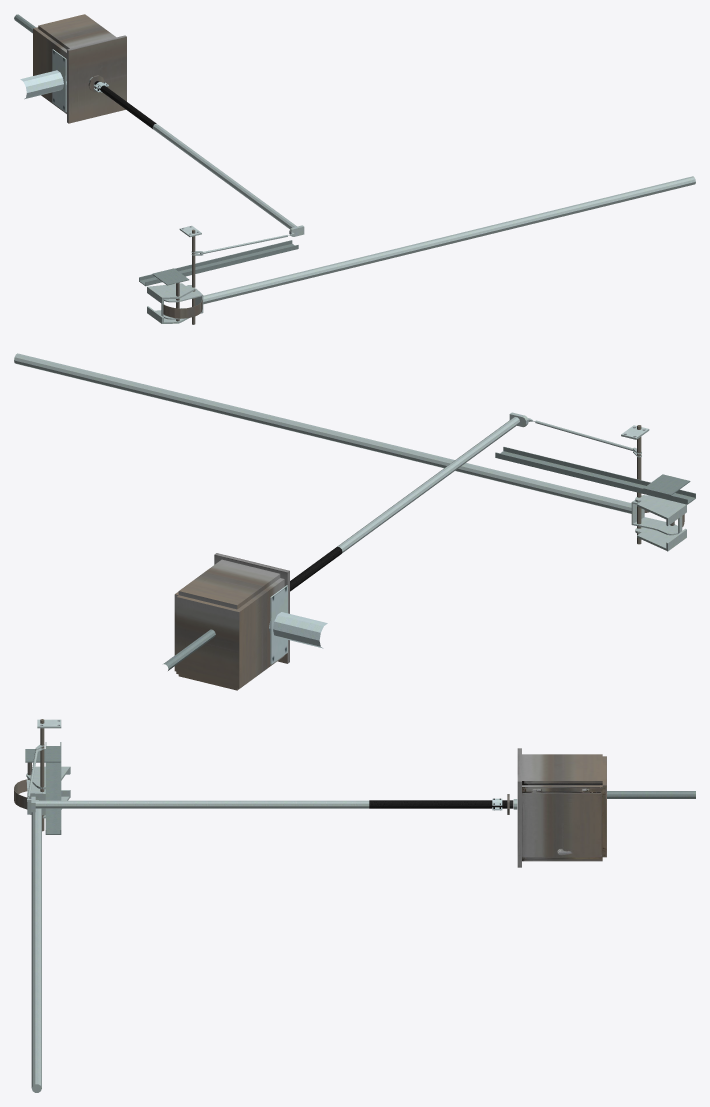
Rendered from glkg-11m32000237461049b-geode.glb.
The picture shows the model from 3 angles, top to bottom: view 1: azimuth 30°, elevation 25°; view 2: azimuth 150°, elevation 25°; view 3: azimuth 270°, elevation 25°; orthographic projection. The views are drawn at different scales.
Visible parts, largest first — view 1: Node; view 2: Node; view 3: Node.
Boxes of the visible parts, x1,y1,x2,y2 form: Node: (14, 14, 695, 324); Node: (14, 353, 695, 690); Node: (14, 719, 695, 1092).
Bounding box in the file's own units: 4.96 × 0.9331 × 4.57.
Materials: 8 (8 with a texture image).
